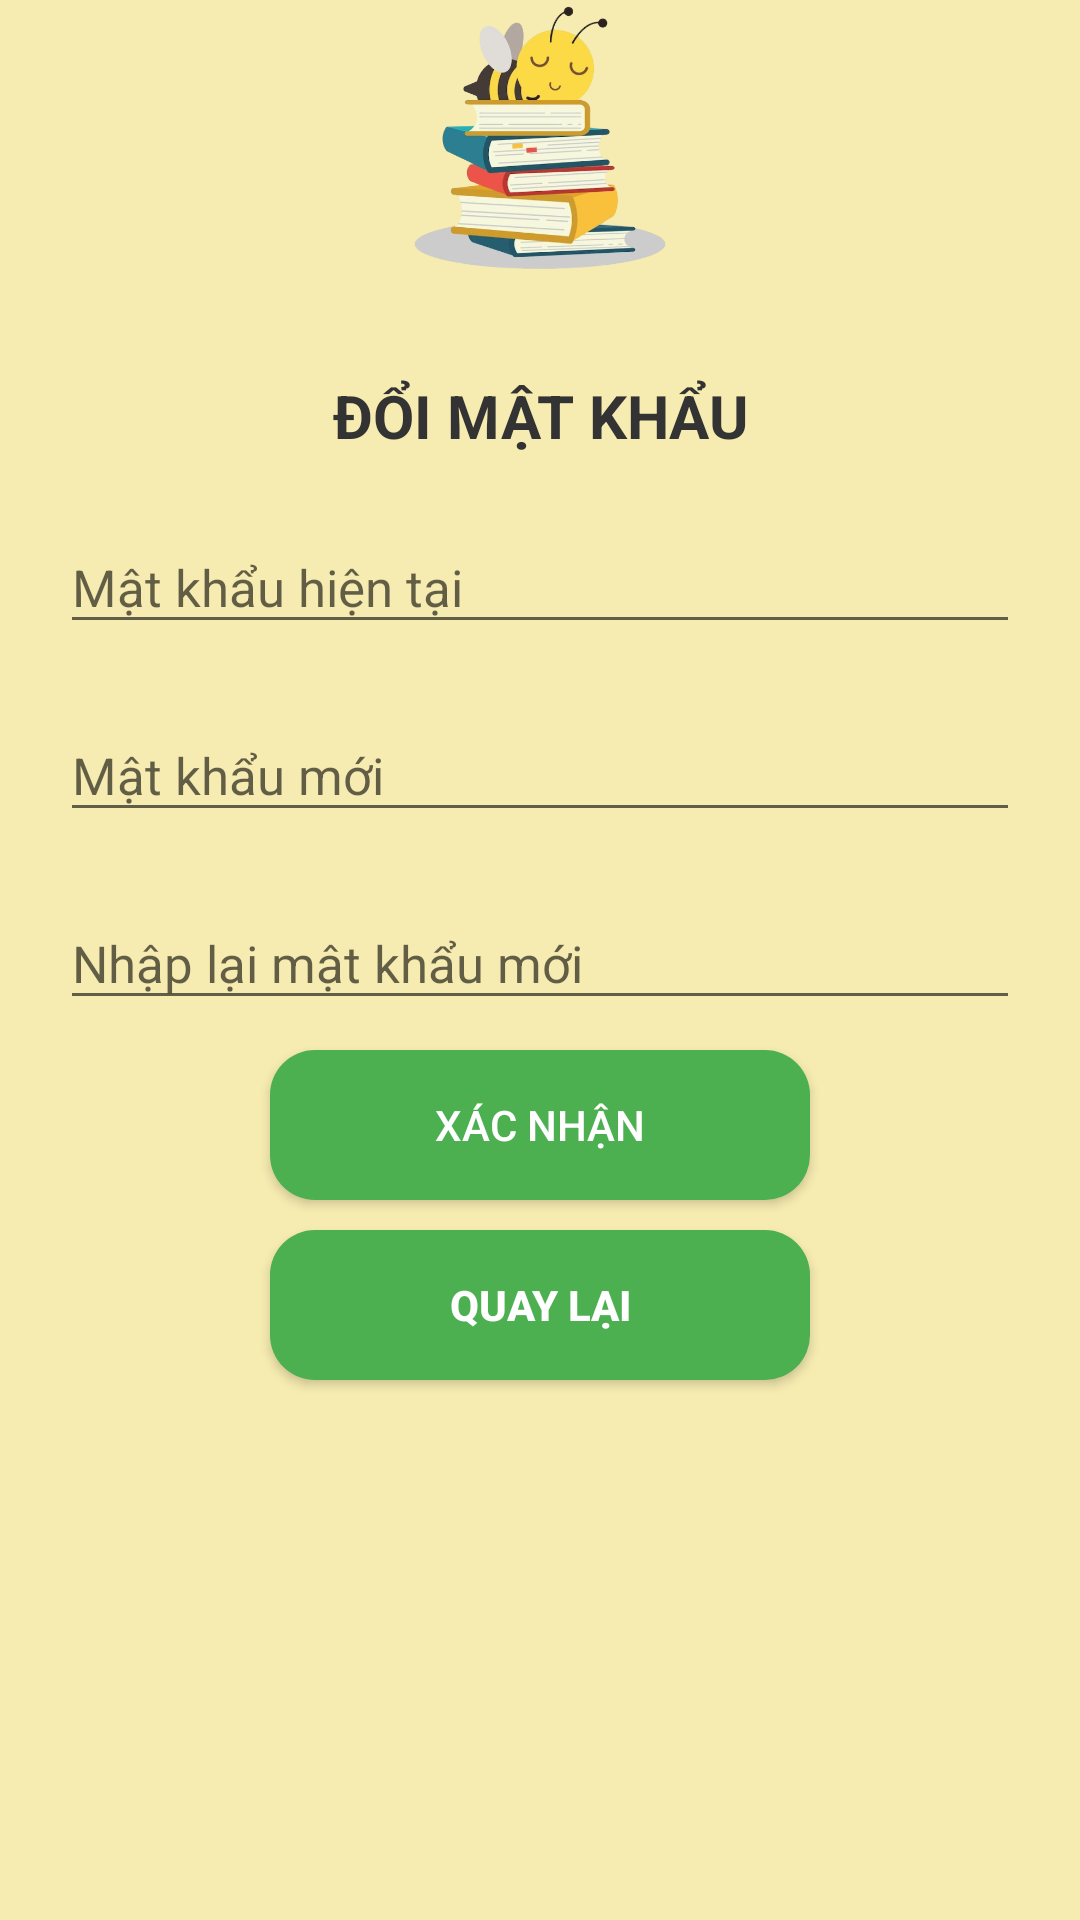

Named icons in this screenshot (1080px x 1920px) and their centers, point (x, y):
ongsach: point (540, 138)
